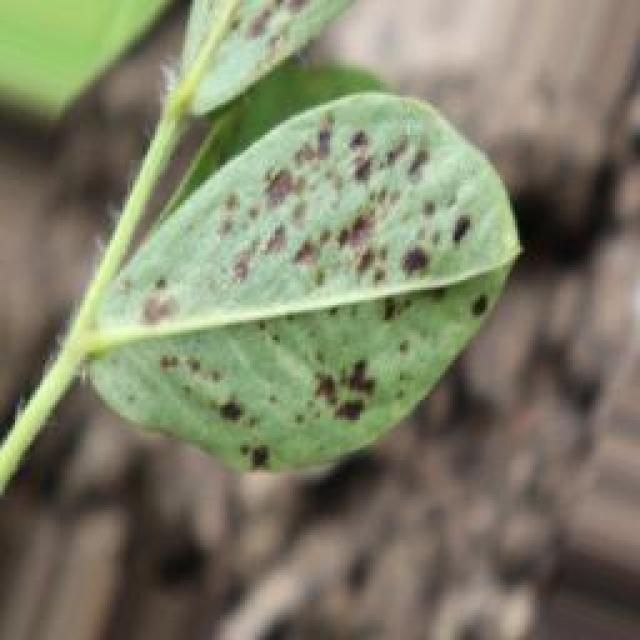Whitefly: (54, 103, 518, 457), (153, 0, 431, 114)
